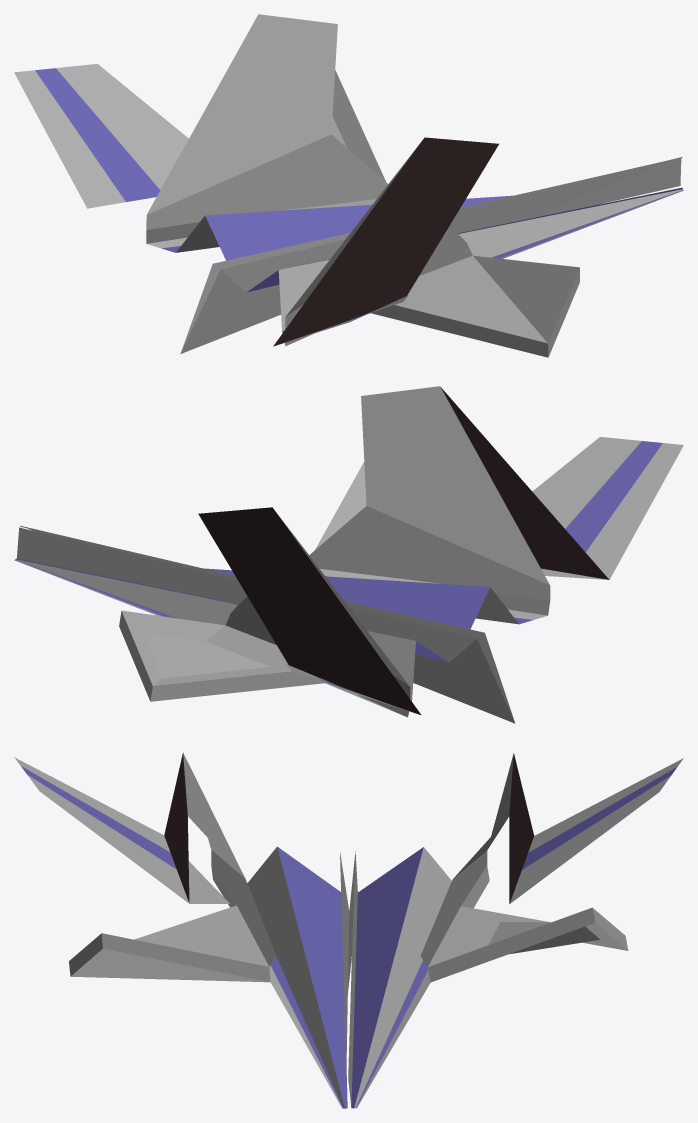
File: planething.fbx
The picture shows the model from 3 angles, top to bottom: view 1: azimuth 30°, elevation 25°; view 2: azimuth 150°, elevation 25°; view 3: azimuth 270°, elevation 25°; orthographic projection.
Visible parts, largest first — view 1: pPlane5; view 2: pPlane5; view 3: pPlane5.
Part boxes in pixels (x1=…): pPlane5: x1=14, y1=14, x2=683, y2=357; pPlane5: x1=14, y1=386, x2=683, y2=723; pPlane5: x1=14, y1=752, x2=683, y2=1108.
Size of the model in its own units: 9.84 by 4.49 by 11.52.
